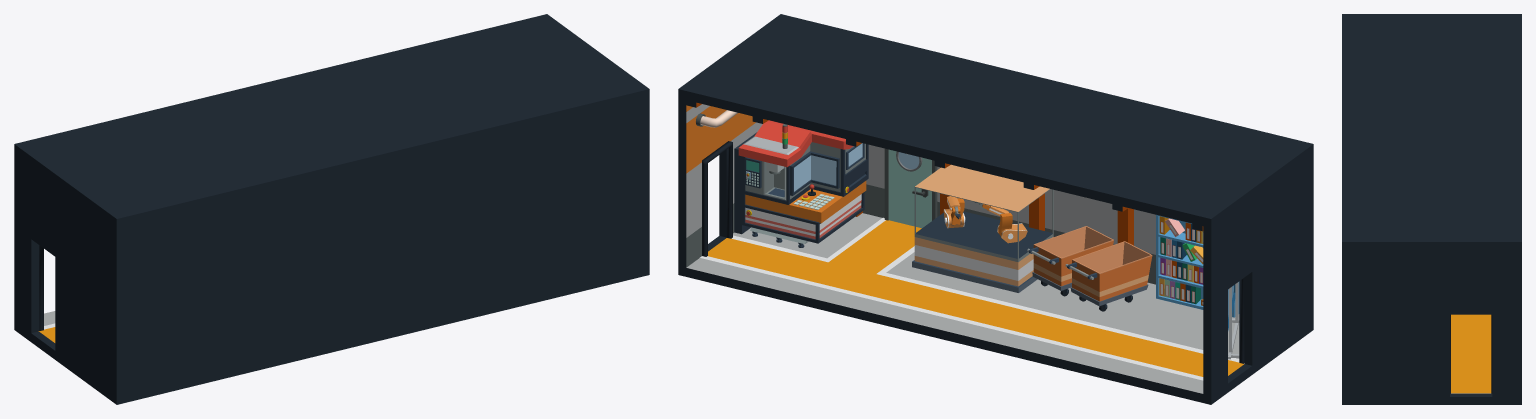
The model's file is Room_machining_002.fbx.
The picture shows the model from 3 angles, left to right: view 1: azimuth 30°, elevation 25°; view 2: azimuth 150°, elevation 25°; view 3: azimuth 270°, elevation 25°; orthographic projection. The views are drawn at different scales.
Parts seen in each view (by area): view 1: Room_large_001.001; view 2: Room_large_001.001; view 3: Room_large_001.001.
Boxes of the visible parts, left/top/right/bottom form: Room_large_001.001: left=14, top=14, right=649, bottom=404; Room_large_001.001: left=678, top=14, right=1313, bottom=404; Room_large_001.001: left=1342, top=14, right=1521, bottom=404.
Bounding box in the file's own units: 1200 × 400 × 400.
